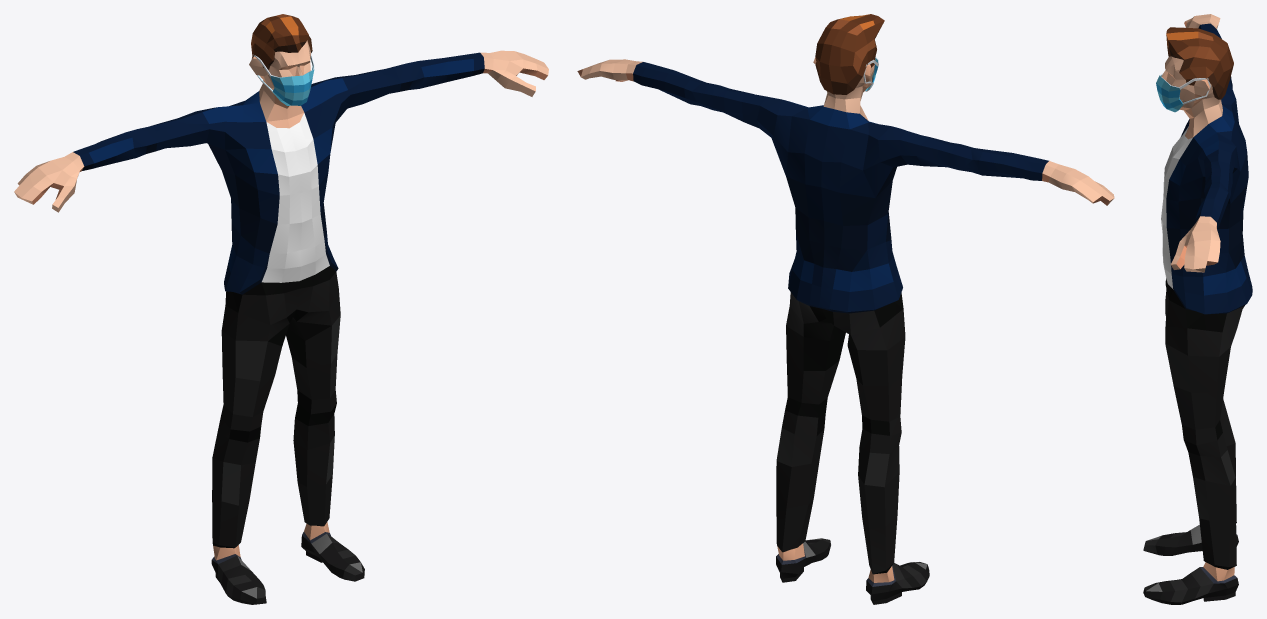
Rendered from night_Male_A-model.obj.
3 renders of one model, left to right at view 1: azimuth 30°, elevation 25°; view 2: azimuth 150°, elevation 25°; view 3: azimuth 270°, elevation 25°, orthographic. The views are drawn at different scales.
Visible parts, largest first — view 1: night_Male_A, acc_men_hair_brown, acc_mask_blue; view 2: night_Male_A, acc_men_hair_brown; view 3: night_Male_A, acc_men_hair_brown, acc_mask_blue.
Part boxes in pixels (<box>): night_Male_A: <box>14,40,548,604</box>; acc_men_hair_brown: <box>251,14,312,69</box>; acc_mask_blue: <box>253,53,314,105</box>; night_Male_A: <box>577,57,1114,604</box>; acc_men_hair_brown: <box>815,14,884,94</box>; night_Male_A: <box>1143,14,1252,604</box>; acc_men_hair_brown: <box>1166,27,1233,99</box>; acc_mask_blue: <box>1156,73,1210,112</box>.
Bounding box in the file's own units: 182 × 183 × 33.5.
